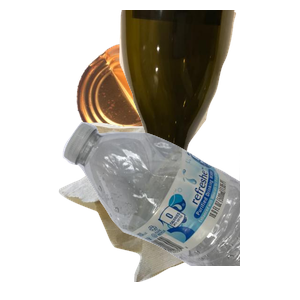glass: (117, 10, 300, 190)
metal: (74, 41, 229, 181)
plastic: (60, 120, 300, 300)
trash: (56, 120, 247, 300)
